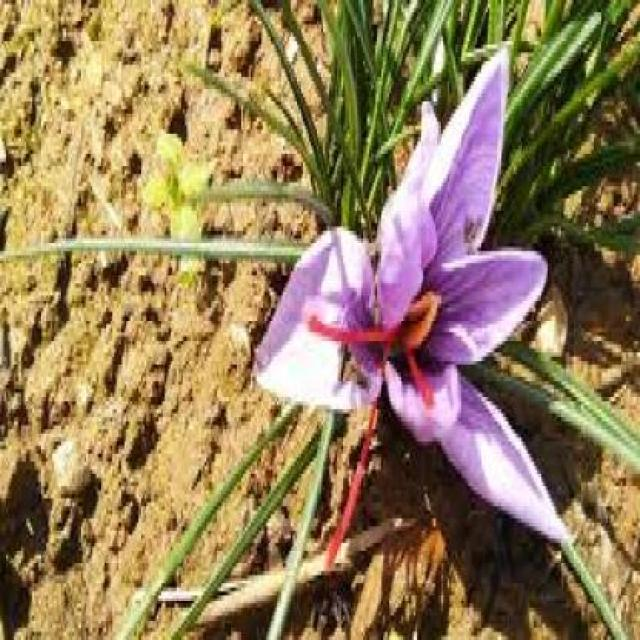saffron open: (255, 49, 568, 542)
